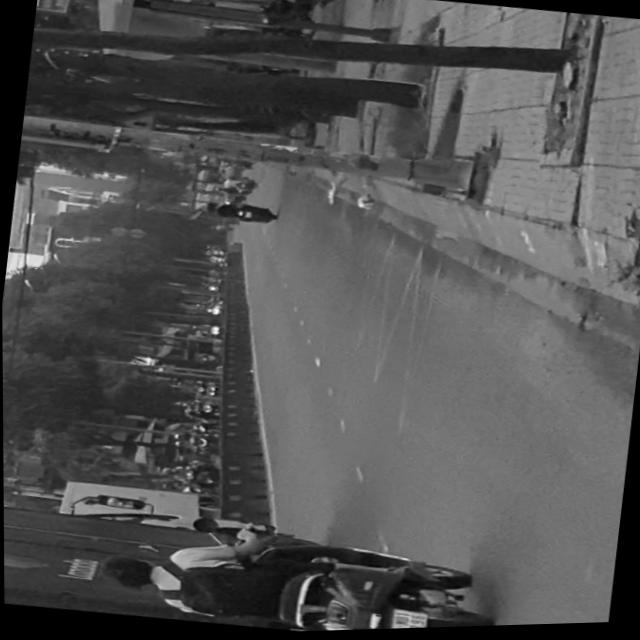licenseplate: (89, 510, 500, 638)
motorcyclist: (93, 549, 157, 594)
nohelmet: (387, 610, 424, 631)
